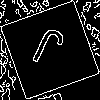J: (25, 25, 68, 78)
